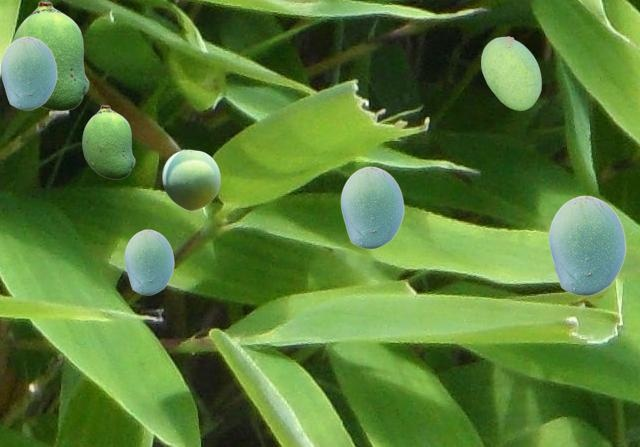green_mango: (12, 1, 88, 110), (548, 195, 625, 295), (340, 166, 403, 248), (481, 36, 540, 109), (0, 36, 56, 109), (82, 105, 134, 178), (162, 149, 219, 209), (124, 229, 173, 294)
